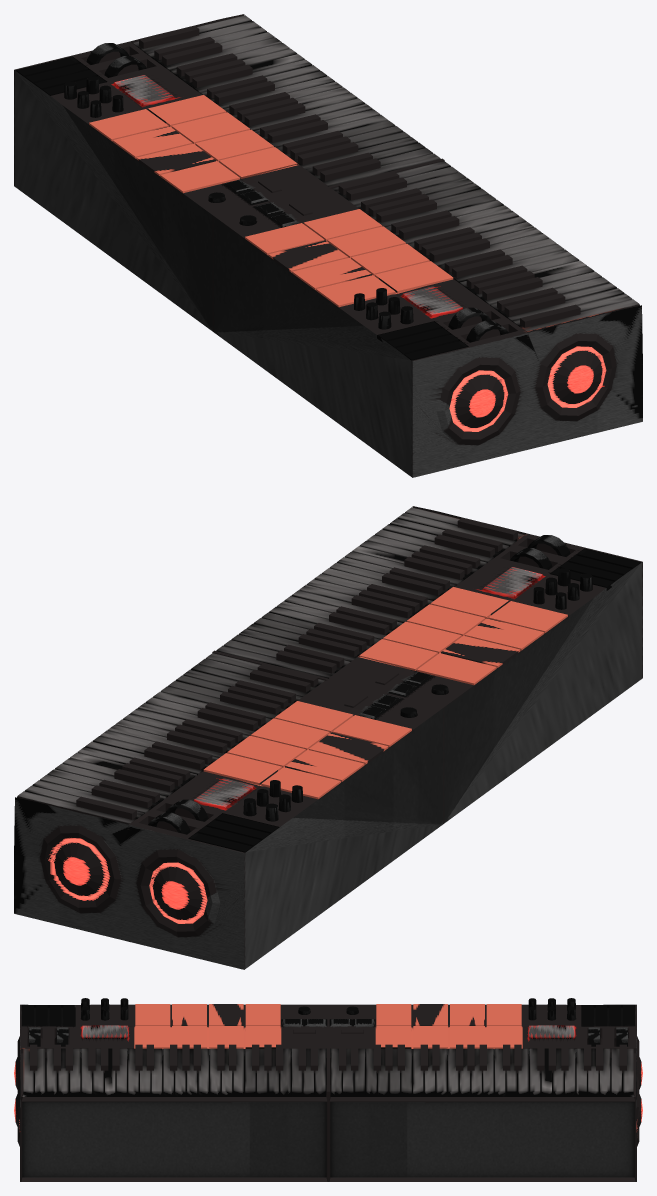
File: 2-lead-synth-red-1.glb
3 renders of one model, top to bottom at view 1: azimuth 30°, elevation 25°; view 2: azimuth 150°, elevation 25°; view 3: azimuth 270°, elevation 25°, orthographic. The views are drawn at different scales.
Parts seen in each view (by area): view 1: Cube.006; view 2: Cube.006; view 3: Cube.006.
Part boxes in pixels (x1,y1,x2,y2): Cube.006: (14, 14, 642, 477); Cube.006: (14, 506, 642, 969); Cube.006: (14, 998, 642, 1181).
Size of the model in its own units: 1.35 by 0.7237 by 4.12.
Materials: 1 (1 with a texture image).
